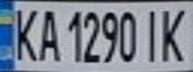0: (118, 7, 142, 64)
1: (60, 6, 84, 63)
2: (78, 7, 103, 63)
9: (100, 7, 121, 64)
A: (33, 5, 60, 62)
I: (139, 6, 166, 64)
K: (157, 3, 193, 64), (6, 3, 42, 62)
